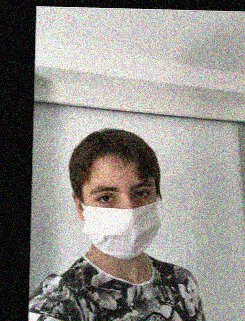with_mask: (79, 174, 162, 259)
